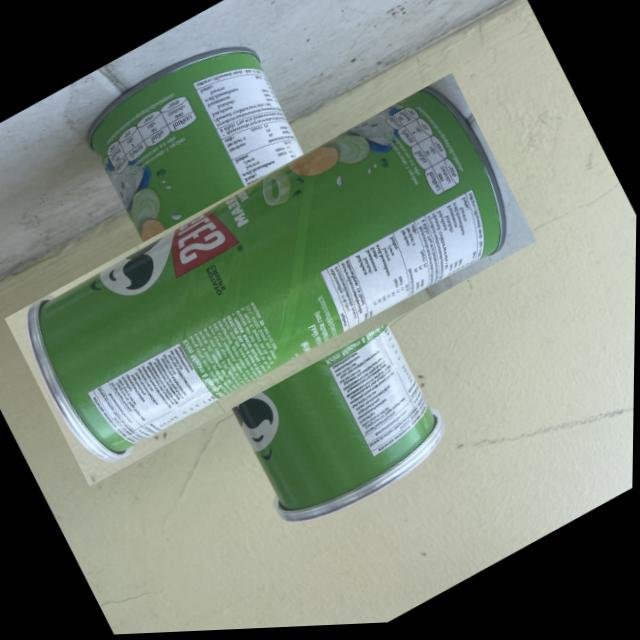a pringles: (37, 42, 507, 523)
